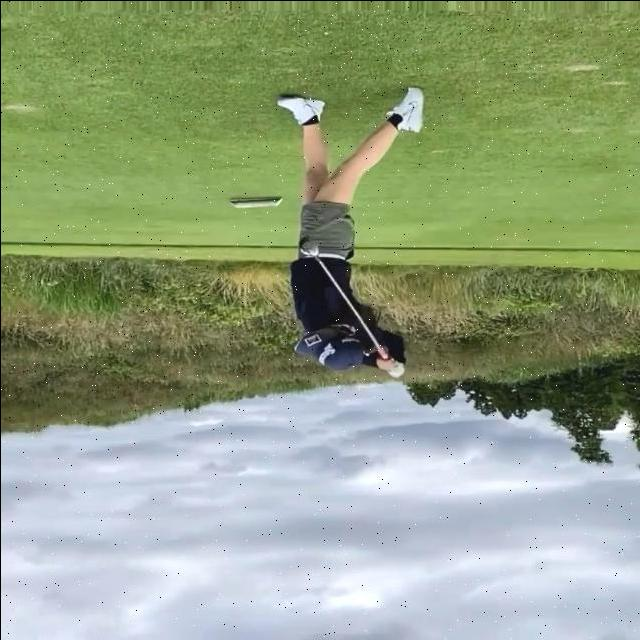ClubHandle: (298, 237, 387, 358)
ClubHead: (298, 237, 318, 255)
